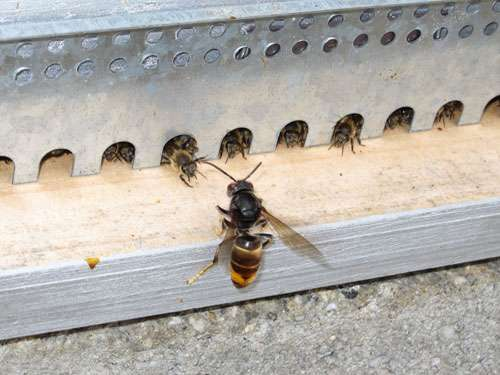bee: (167, 146, 202, 186), (333, 118, 362, 155), (282, 125, 305, 150), (224, 138, 249, 158)
hornet: (212, 173, 283, 296)
